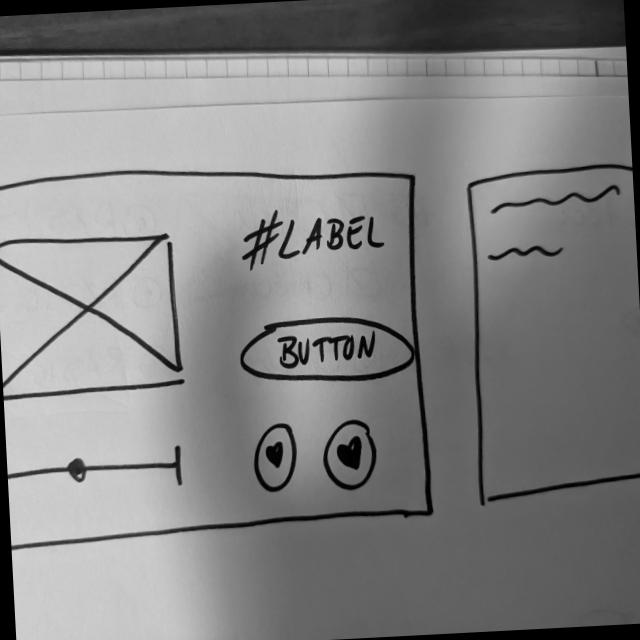button: (236, 309, 417, 391)
container: (0, 150, 439, 563)
icon-button: (321, 417, 382, 493), (250, 419, 302, 496)
image: (0, 226, 188, 405)
label: (238, 202, 386, 276)
slider: (6, 441, 187, 504)
textarea: (458, 161, 640, 508)
